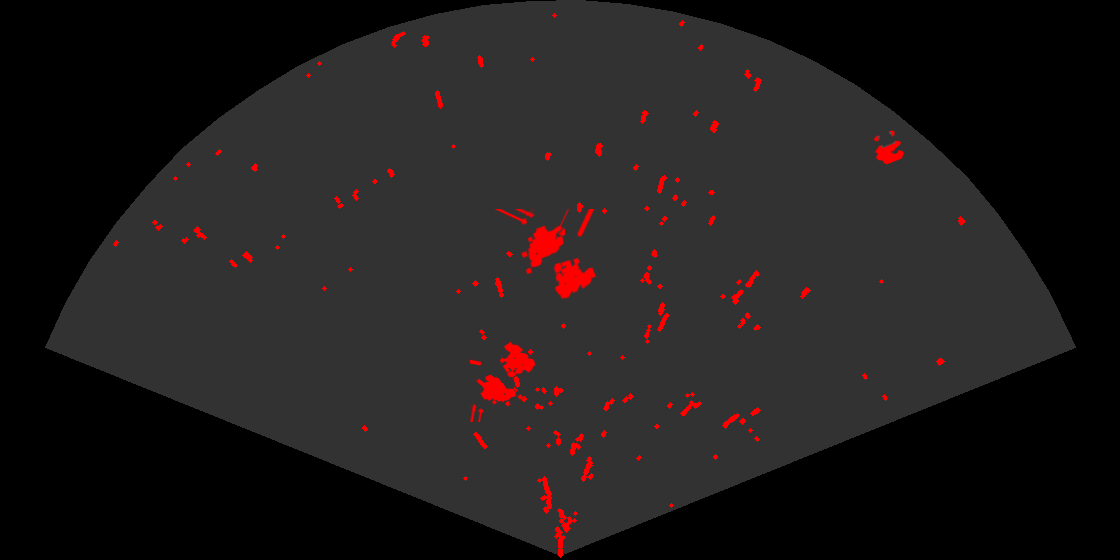ball: (872, 129, 906, 166)
cage: (495, 209, 598, 300), (470, 340, 537, 422)
